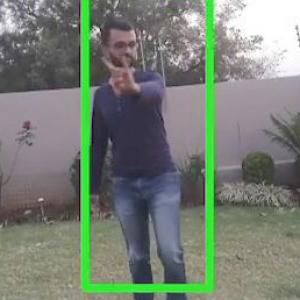takeoff-hand: (102, 39, 144, 98)
